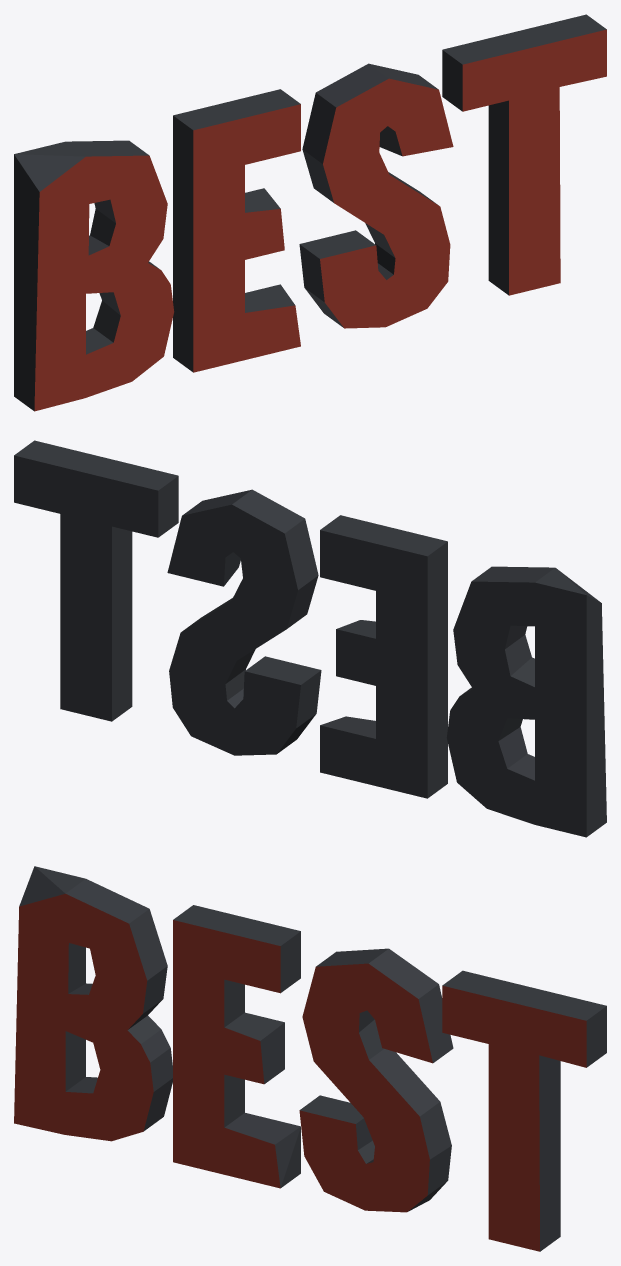
The model's file is SM_Sign_3dText_Best_01.obj.
3 views of the same model, one above another, from view 1: azimuth 30°, elevation 25°; view 2: azimuth 150°, elevation 25°; view 3: azimuth 330°, elevation 25° (orthographic).
Parts seen in each view (by area): view 1: SM_Sign_3dText_Best_01_0; view 2: SM_Sign_3dText_Best_01_0; view 3: SM_Sign_3dText_Best_01_0.
Part boxes in pixels (x1=…): SM_Sign_3dText_Best_01_0: x1=14, y1=14, x2=606, y2=411; SM_Sign_3dText_Best_01_0: x1=14, y1=440, x2=606, y2=837; SM_Sign_3dText_Best_01_0: x1=14, y1=866, x2=606, y2=1251.
Bounding box in the file's own units: 1.76 × 0.7379 × 0.1093.
1 material, 1 textured.
